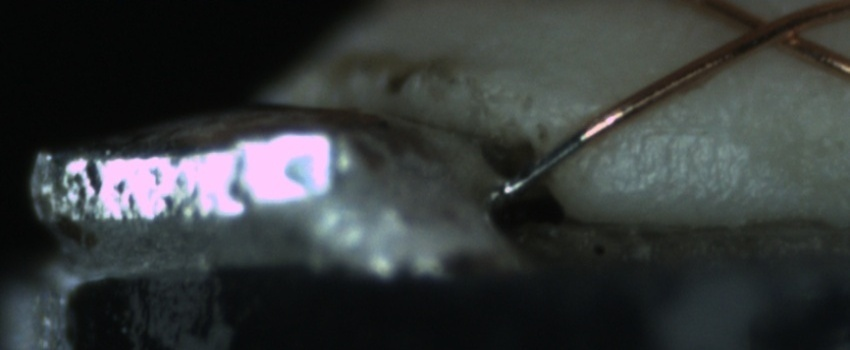CL: (726, 2, 821, 58)
DL: (644, 106, 726, 156)
TS: (503, 131, 588, 198)
TTCW: (493, 92, 645, 204)
